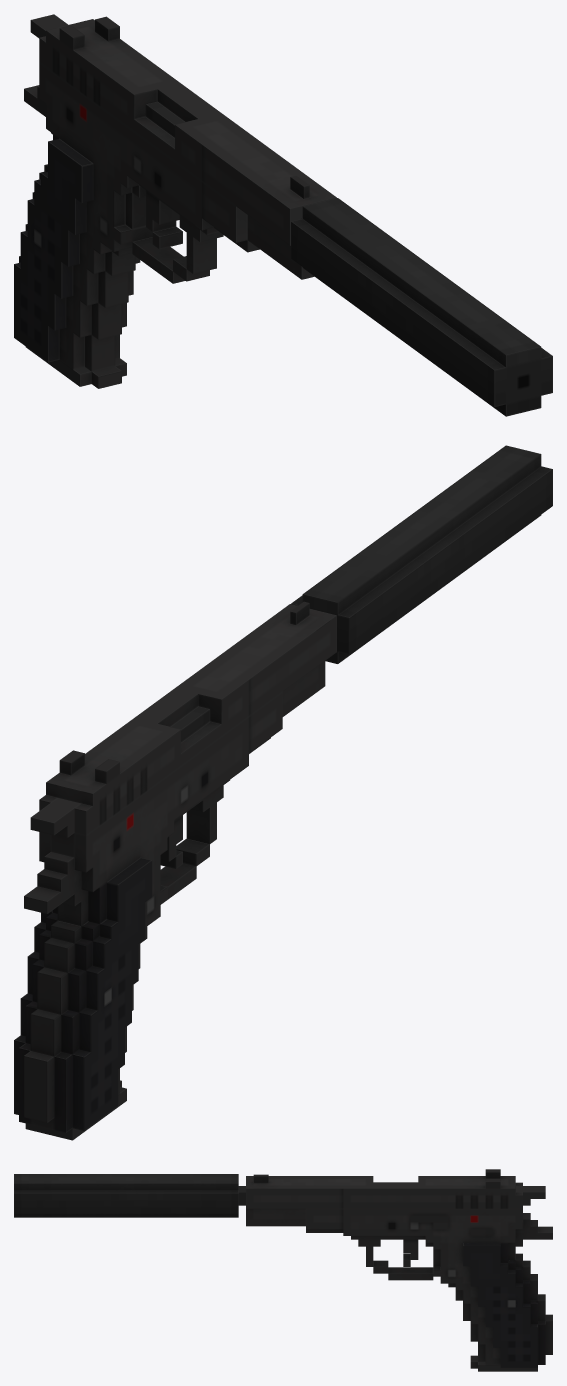
3 renders of one model, top to bottom at view 1: azimuth 30°, elevation 25°; view 2: azimuth 150°, elevation 25°; view 3: azimuth 270°, elevation 25°, orthographic. The views are drawn at different scales.
Parts seen in each view (by area): view 1: CZ75, SILENCER_5X5, CZ75_FRAME, CZ75_CLIP, CZ75_TRIGGER; view 2: CZ75, CZ75_FRAME, SILENCER_5X5, CZ75_TRIGGER; view 3: CZ75, CZ75_FRAME, SILENCER_5X5, CZ75_CLIP, CZ75_TRIGGER.
Part boxes in pixels (bbox=[...]): CZ75: bbox=[14, 62, 302, 371]; SILENCER_5X5: bbox=[291, 198, 552, 416]; CZ75_FRAME: bbox=[39, 16, 336, 279]; CZ75_CLIP: bbox=[26, 347, 126, 388]; CZ75_TRIGGER: bbox=[30, 14, 68, 38]; CZ75: bbox=[14, 692, 282, 1132]; CZ75_FRAME: bbox=[39, 601, 336, 835]; SILENCER_5X5: bbox=[291, 445, 552, 663]; CZ75_TRIGGER: bbox=[30, 798, 80, 857]; CZ75: bbox=[238, 1186, 552, 1368]; CZ75_FRAME: bbox=[246, 1169, 522, 1226]; SILENCER_5X5: bbox=[14, 1174, 238, 1217]; CZ75_CLIP: bbox=[470, 1355, 537, 1371]; CZ75_TRIGGER: bbox=[515, 1186, 545, 1205].
Bounding box in the file's own units: 0.0591 × 0.2756 × 0.7087.
Materials: 2 (2 with a texture image).
